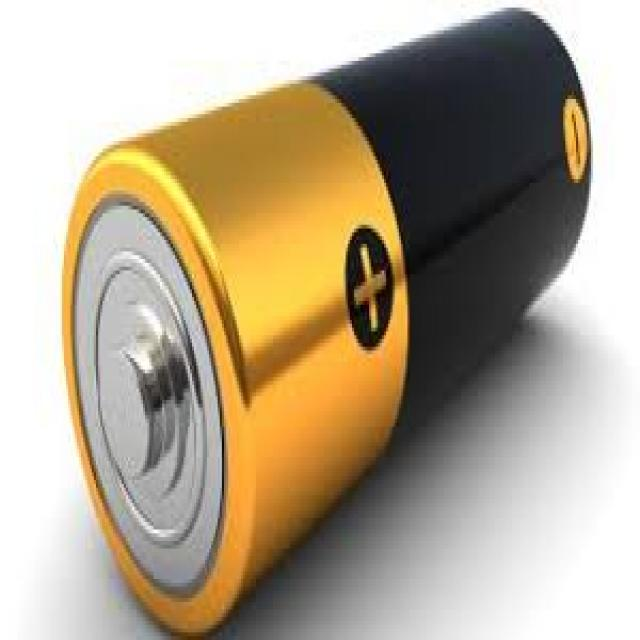non-organic waste: (60, 0, 592, 637)
